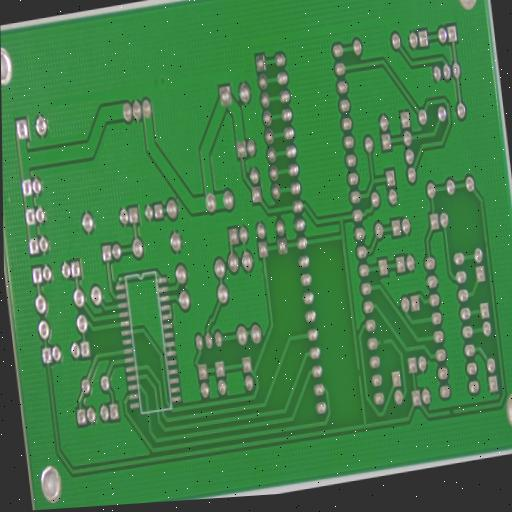open_circuit: (447, 407, 456, 418), (356, 366, 362, 379), (379, 337, 386, 347)
